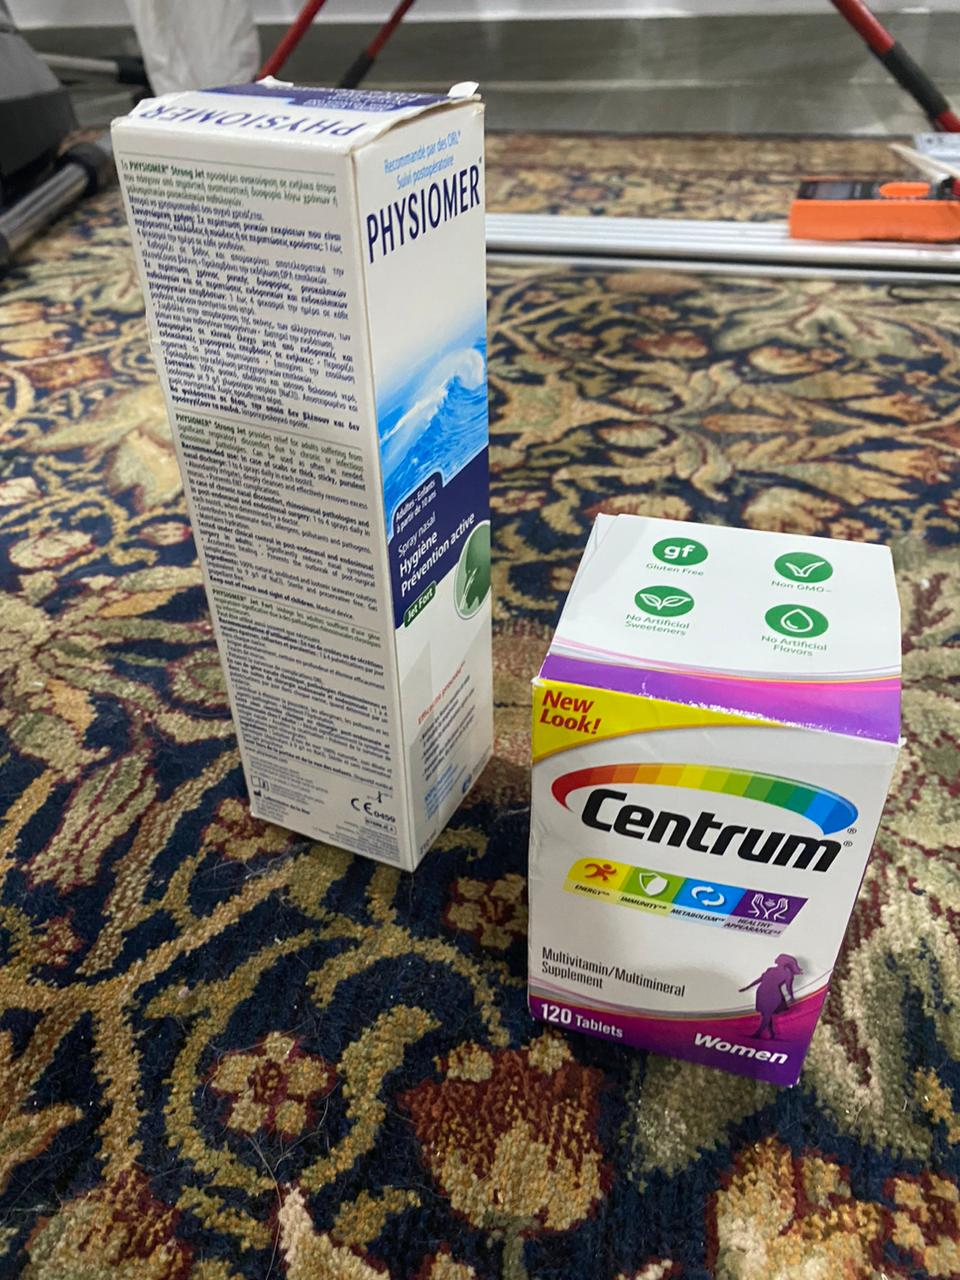Centrum: (521, 507, 904, 1096)
Physiomer: (101, 67, 501, 876)
